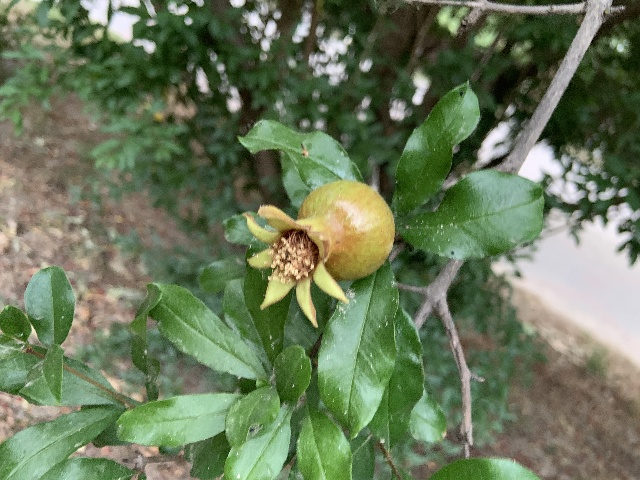mid-growth: (242, 180, 394, 328)
